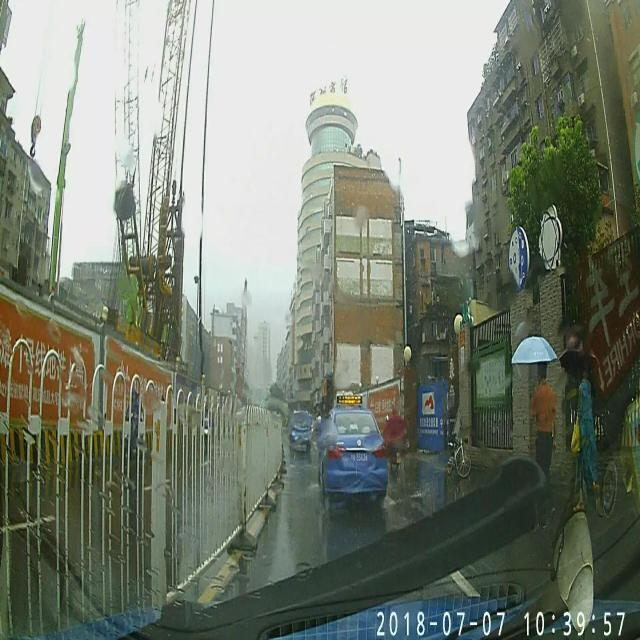car: (318, 391, 388, 505), (288, 408, 313, 456)
